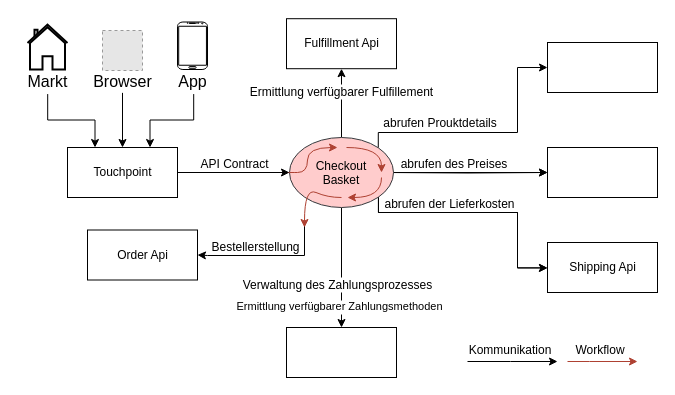
This 675x395 diagram has some shape labels left out. Grey dashed boxes stand in for pictures. The box of each missing label's shape, as (x1, y1, x2, y2) in pixels:
Payment Api: (286, 326, 396, 378)
Pricing Api: (546, 146, 658, 198)
Product Api: (546, 42, 658, 92)
